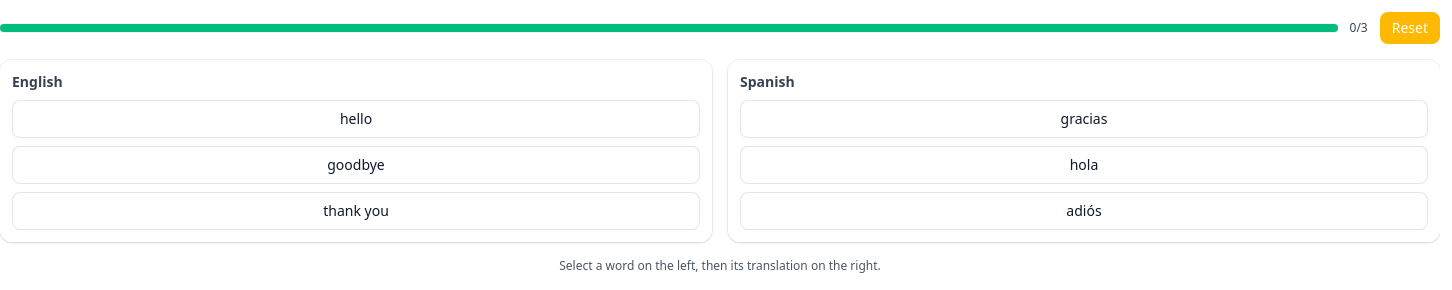
Test: WordMatcher › shows win state when all words are matched
Click the button with aria-label "select hello": (356, 119) [12, 100, 700, 138]
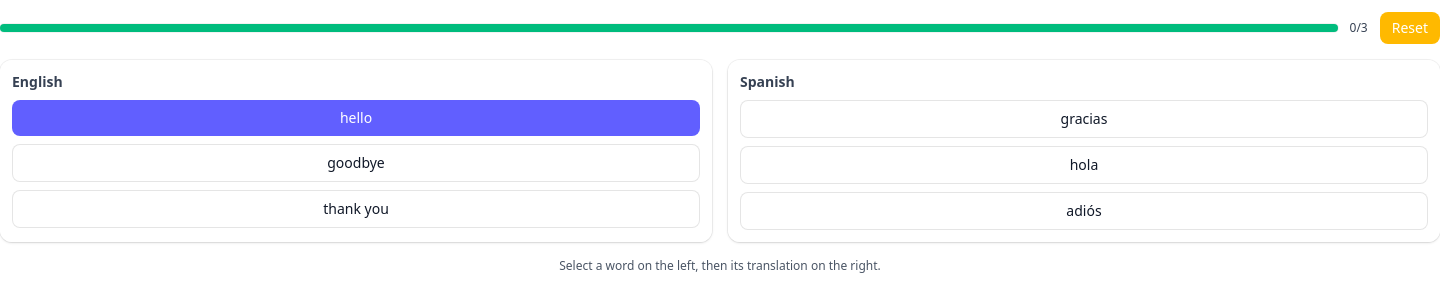
Click the button with aria-label "choose hola": (1084, 165) [740, 146, 1428, 184]
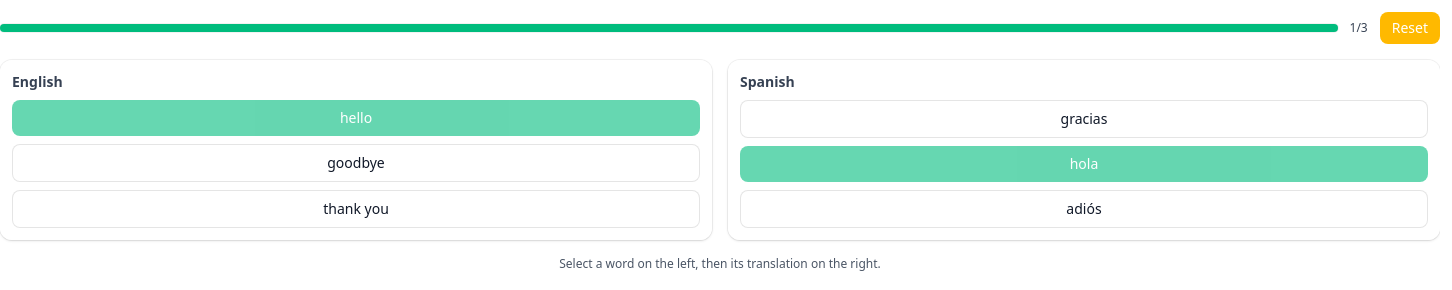
Note: Pair 2: goodbye - adiós
Click the button with aria-label "select goodbye": (356, 163) [12, 144, 700, 182]
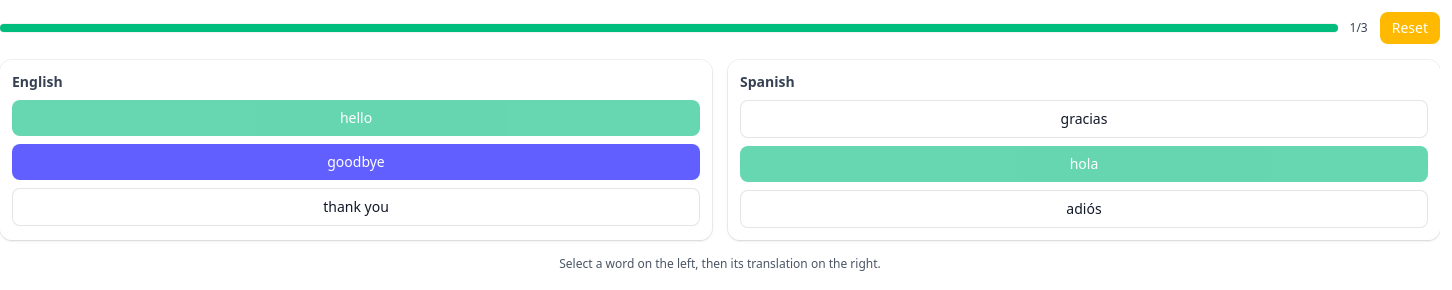
Click the button with aria-label "choose adiós": (1084, 209) [740, 190, 1428, 228]
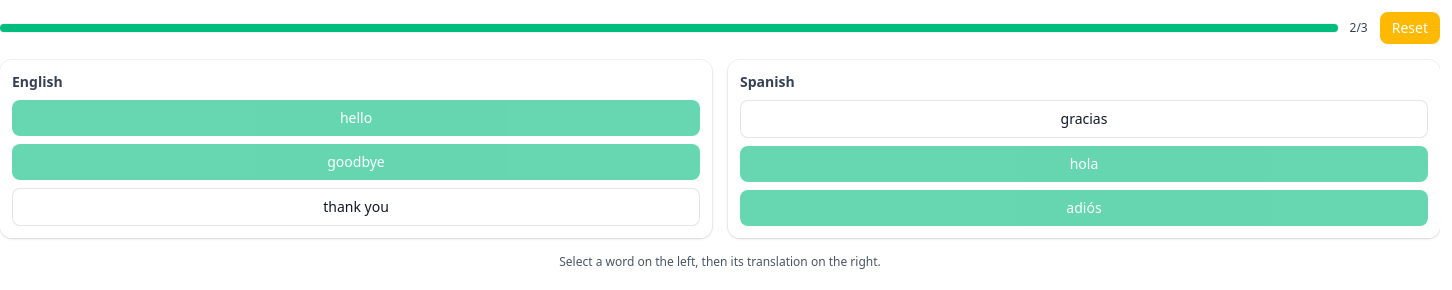
Note: Pair 3: thank you - gracias
Click the button with aria-label "select thank you": (356, 207) [12, 188, 700, 226]
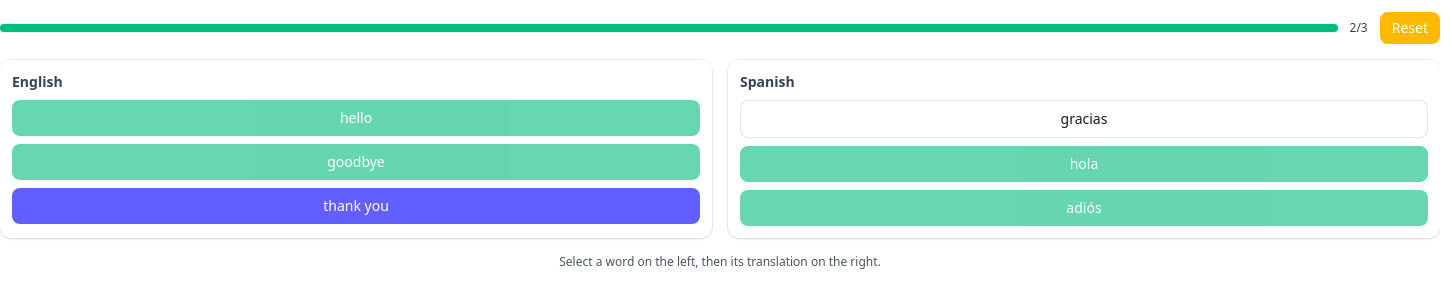
Click the button with aria-label "choose gracias": (1084, 119) [740, 100, 1428, 138]
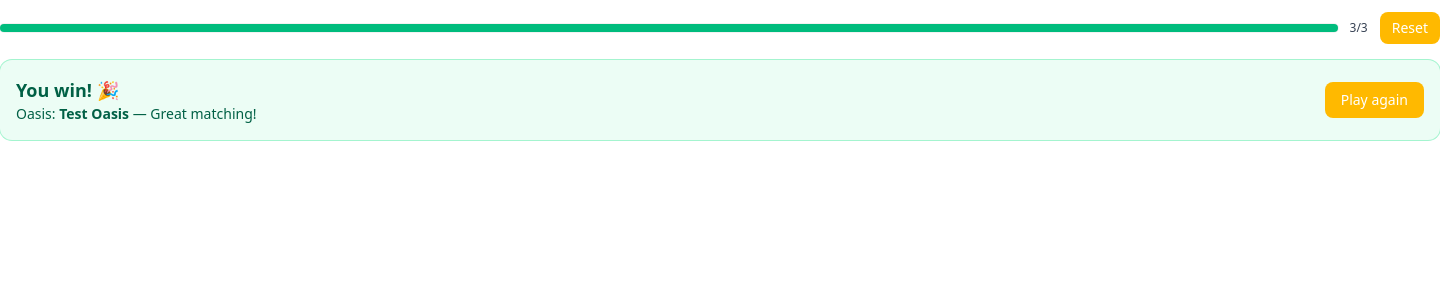
expect the heading "You win! 🎉" is shown: met, box [16, 78, 118, 102]
expect the text "Test Oasis" is shown: met, box [59, 104, 129, 123]
